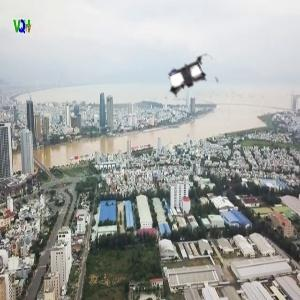drone: (155, 47, 222, 114)
